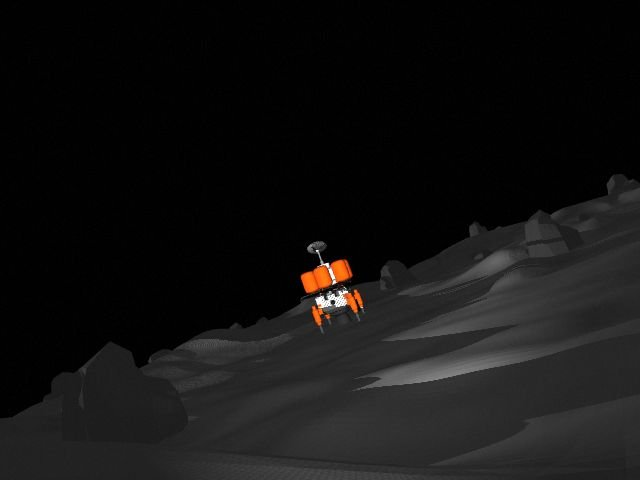homebase: (297, 240, 368, 338)
